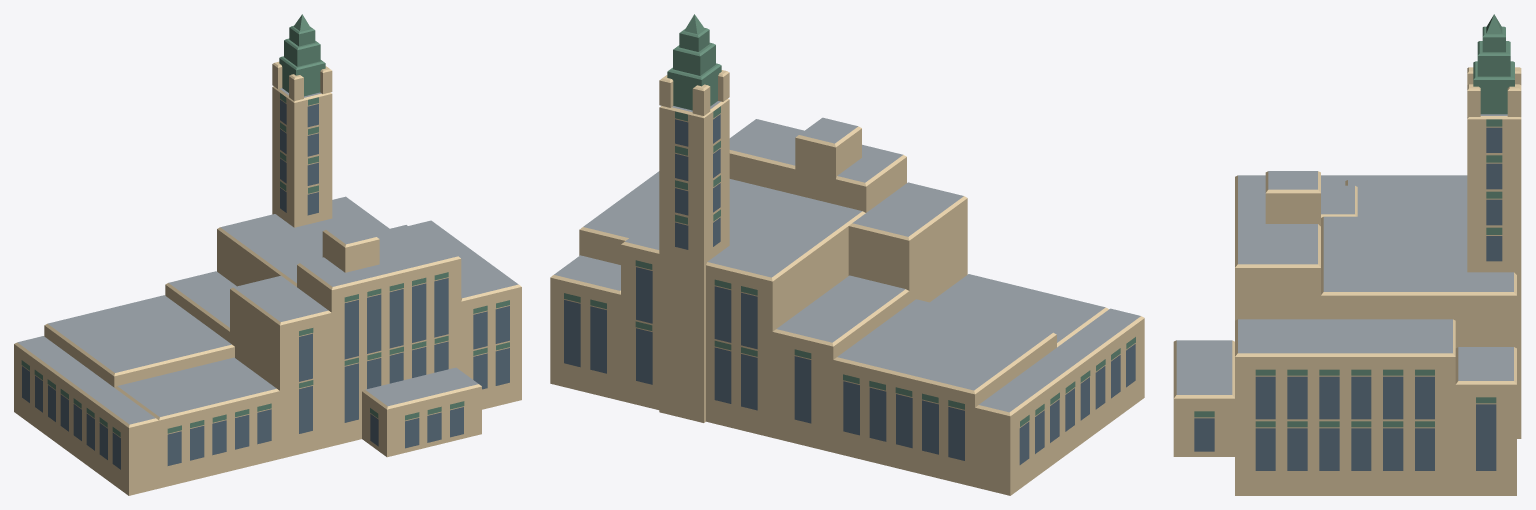
The picture shows the model from 3 angles, left to right: view 1: azimuth 30°, elevation 25°; view 2: azimuth 150°, elevation 25°; view 3: azimuth 270°, elevation 25°; orthographic projection. The views are drawn at different scales.
Visible parts, largest first — view 1: bullocks-wilshire; view 2: bullocks-wilshire; view 3: bullocks-wilshire.
Part boxes in pixels (x1,y1,x2,y2): bullocks-wilshire: (14, 14, 521, 495); bullocks-wilshire: (550, 14, 1144, 495); bullocks-wilshire: (1173, 14, 1521, 495).
Bounding box in the file's own units: 91.12 × 74.5 × 56.82.
